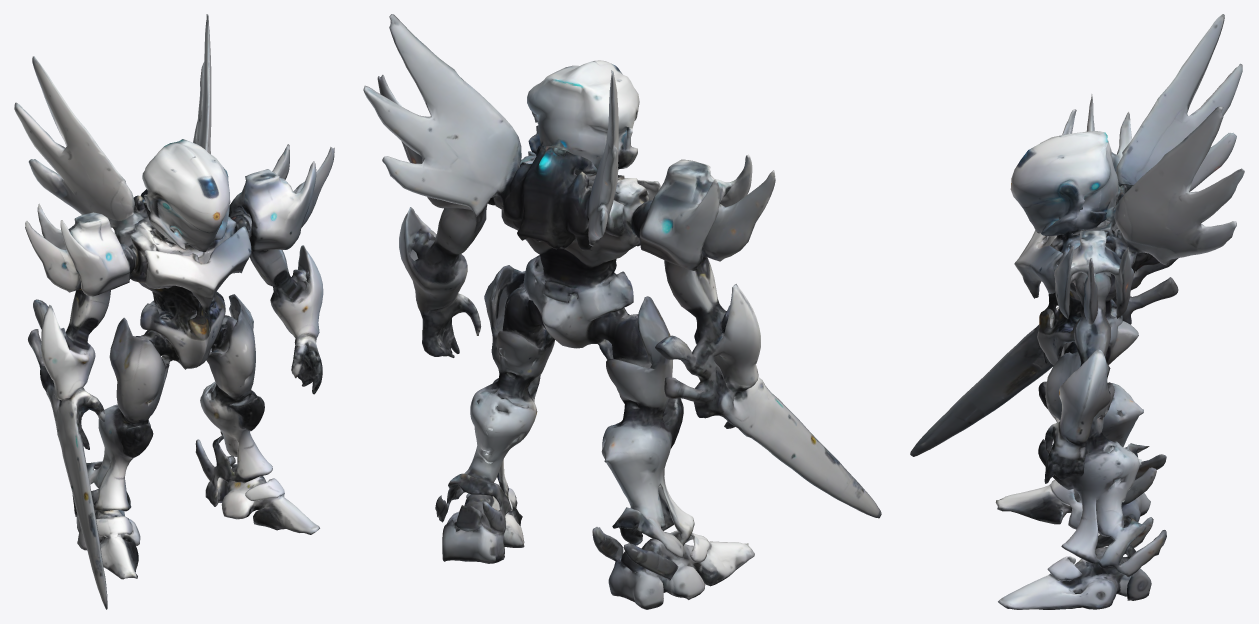
File: Warrior_Robot_1.glb
The picture shows the model from 3 angles, left to right: view 1: azimuth 30°, elevation 25°; view 2: azimuth 150°, elevation 25°; view 3: azimuth 270°, elevation 25°; orthographic projection. The views are drawn at different scales.
Size of the model in its own units: 1.44 by 1.99 by 1.22.
1 material, 1 textured.
